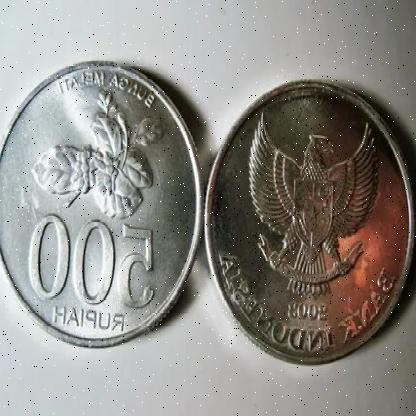coin_500_e2003: (198, 77, 416, 371), (0, 58, 199, 348)
